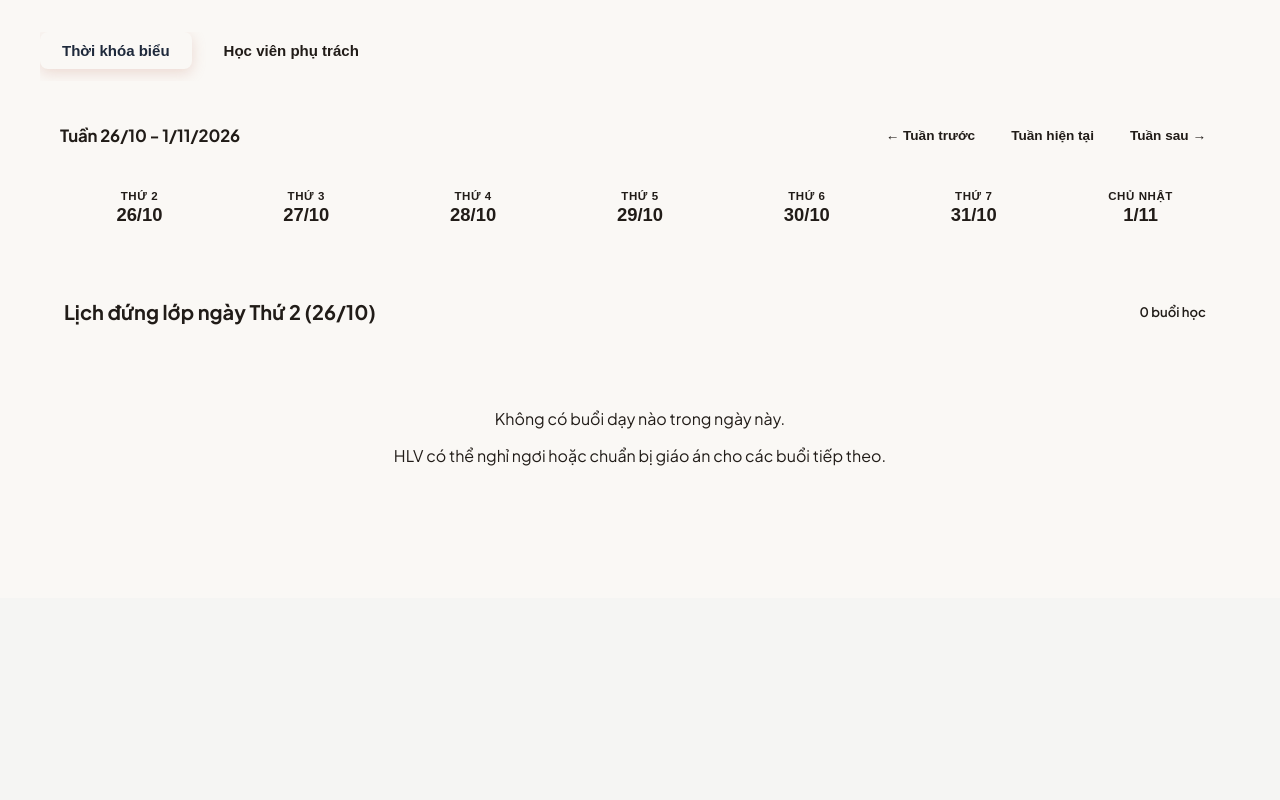
it: CoachClassesPage (SCRUM-121: UI Coach Danh sách Lớp & Học viên Phụ trách) › switches to dedicated "Học viên phụ trách" tab and displays assigned students without icons
What coordinates should you click on to do the following:
click the tab with class "coach-tab-btn" showing "Học viên phụ trách"
I would click on:
 (291, 50)
Its box is 202,32 -> 381,69.
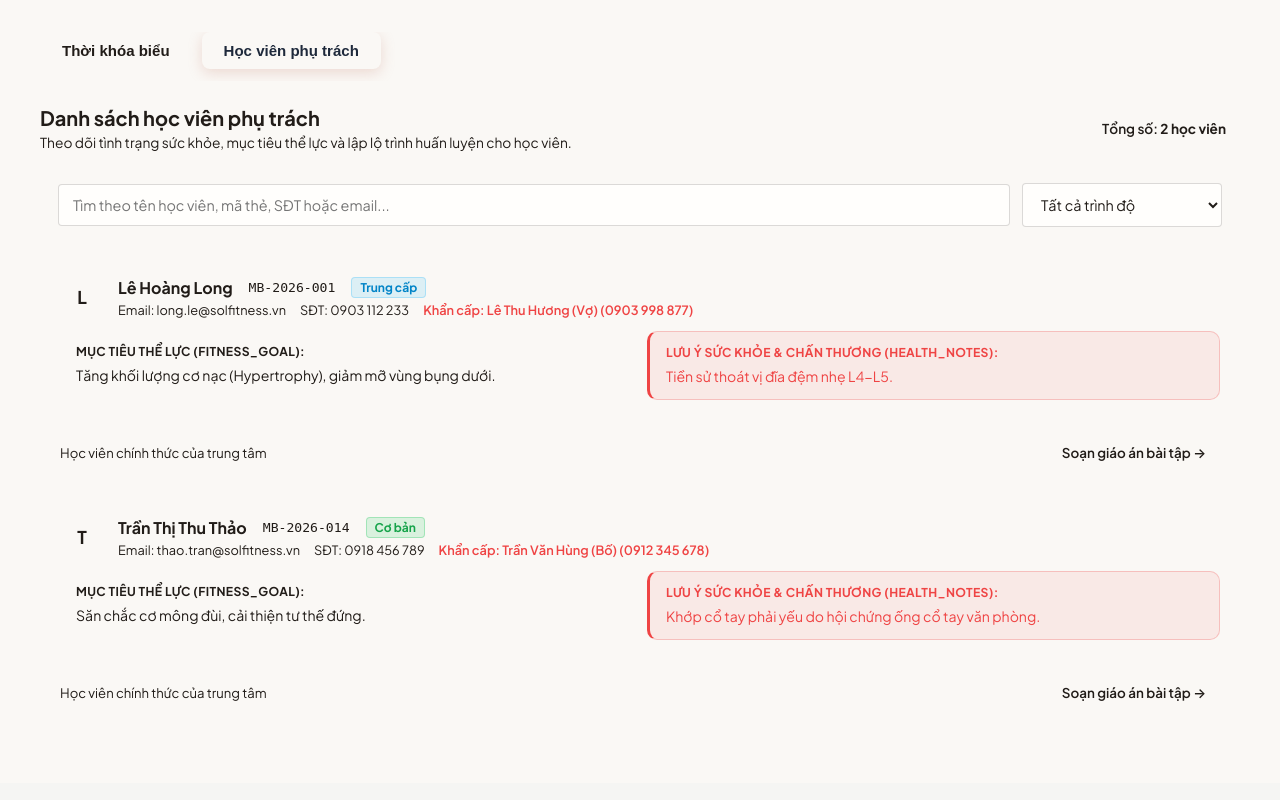
Now the text "Danh sách học viên phụ trách" is shown, box 40,105 -> 320,130
Now the text "Lê Hoàng Long" is shown, box 118,276 -> 233,298
Now the text "Trần Thị Thu Thảo" is shown, box 118,517 -> 247,538
